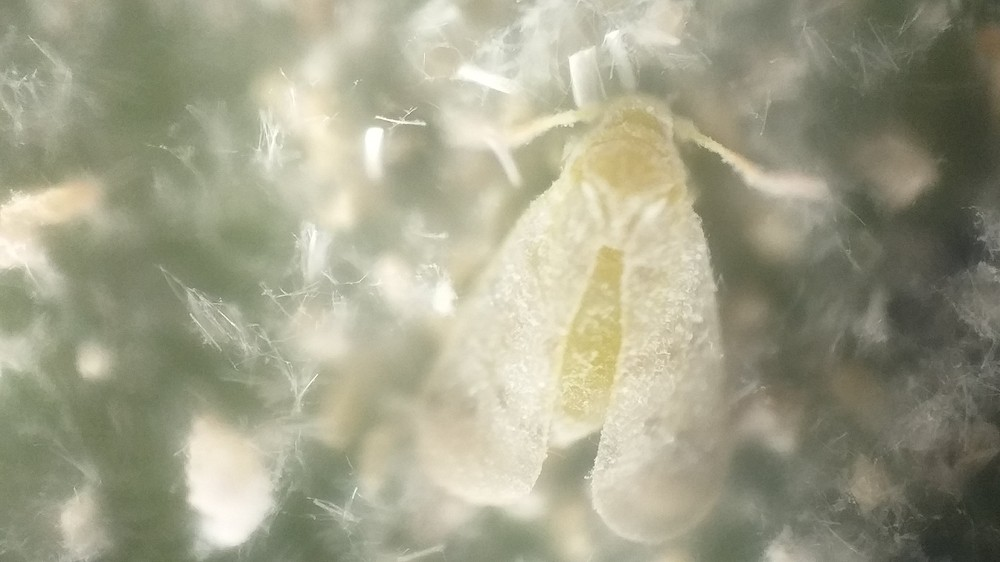Mosca Blanca: (397, 88, 857, 544)
